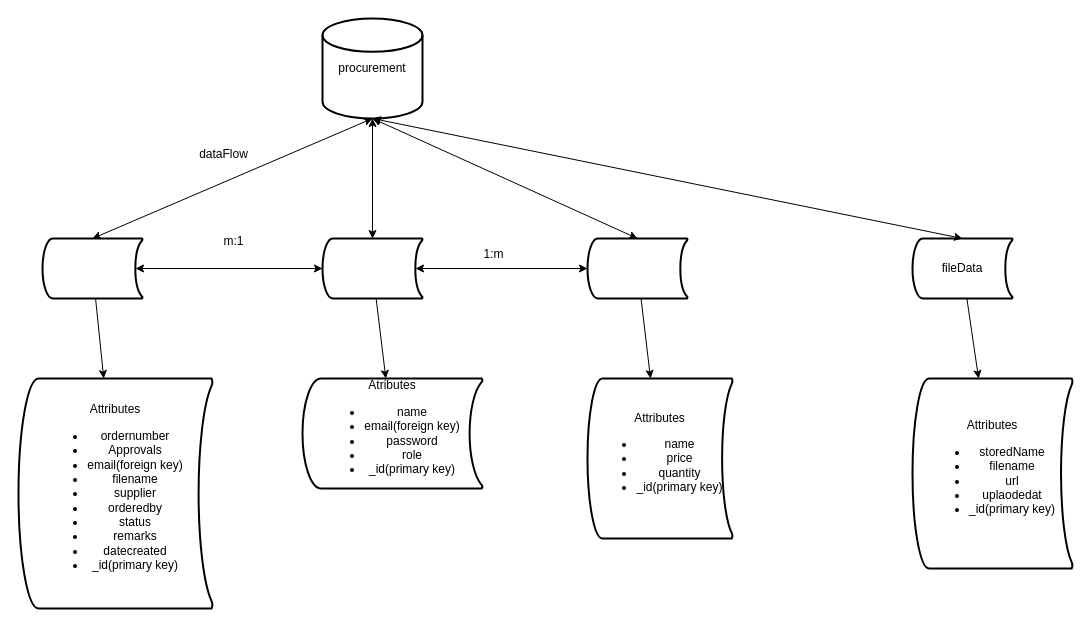
Some shapes in this 1090 by 626 pixel diagram are drawn without their labels. The box of each missing label's shape, as (x1, y1, x2, y2) in pixels:
products: (586, 237, 688, 299)
Requests: (41, 237, 143, 299)
users: (321, 237, 423, 299)
